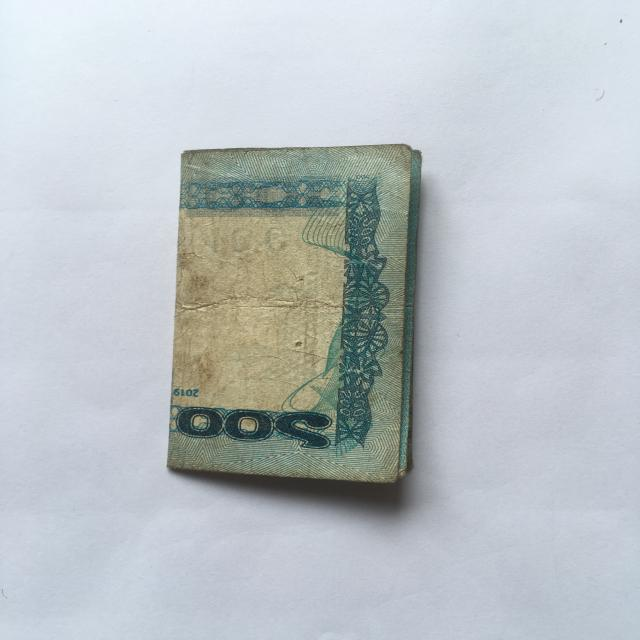Taka: (168, 143, 435, 493)
